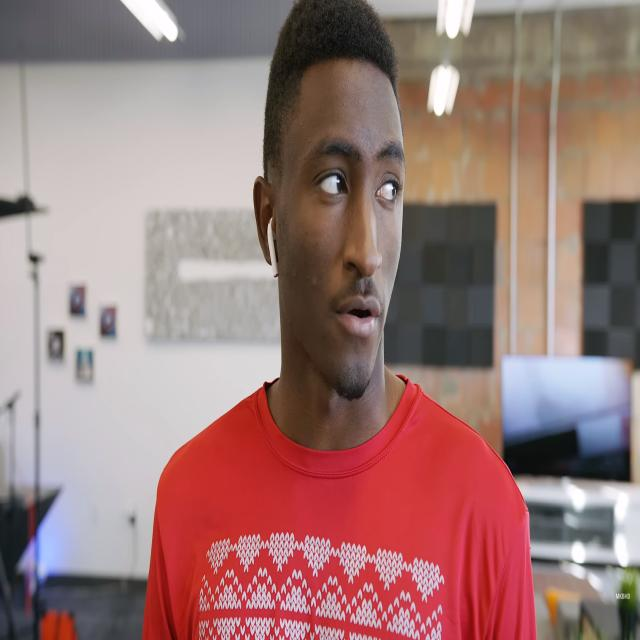airpods: (267, 216, 280, 279)
